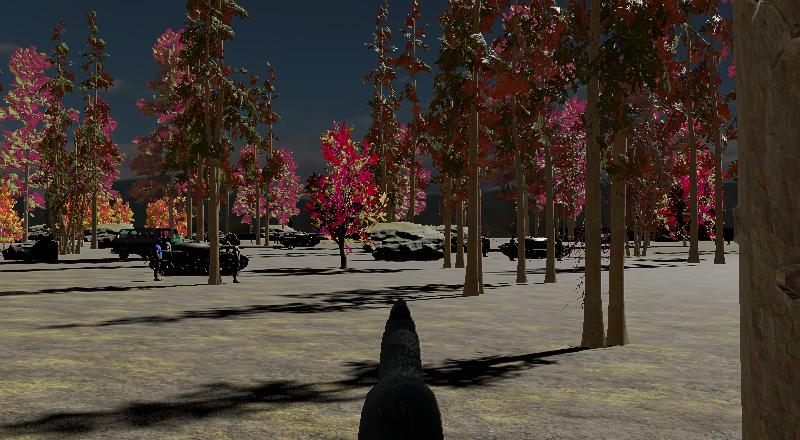Human: (153, 235, 164, 282)
Tank: (159, 238, 252, 277), (499, 233, 566, 263), (275, 226, 324, 248)
car: (110, 228, 185, 260)
